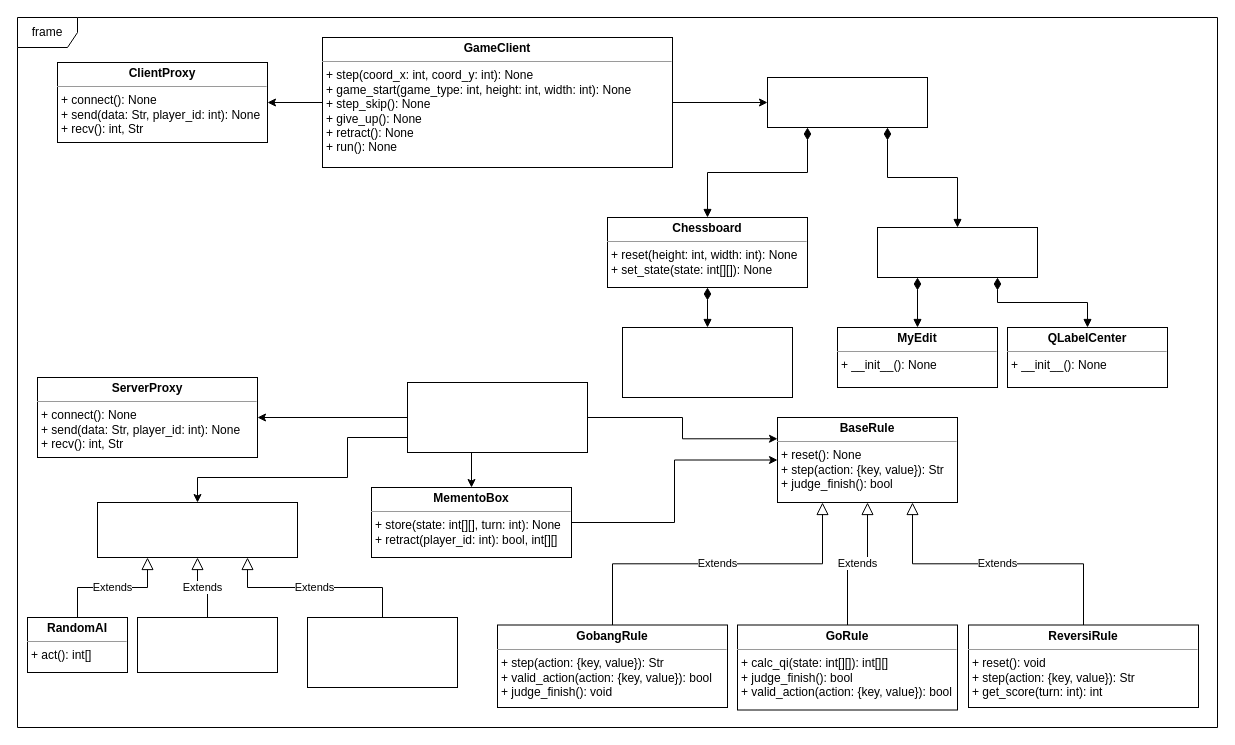
Some shapes in this 1235 by 745 pixel diagram are drawn without their labels. The shapes that lost their labels are listed below. From the top down, each one's centre as x and y in pixels, then its label:
At point 847,102: "MainWindow + init_ui(): None".
At point 957,252: "Menu + init_ui(): None".
At point 707,362: "Grid + set_state(state: int[][]): None + mousePressEvent(): None".
At point 497,417: "GameServer + game_loop(): {key, value} + main_loop(): None".
At point 197,530: "BaseAI + __init__(game: {key, value}): void".
At point 207,644: "RuleAI + act(random: bool): int[]".
At point 382,652: "SearchAI + MCTS(coord: int[]): int + act(): int[]".
